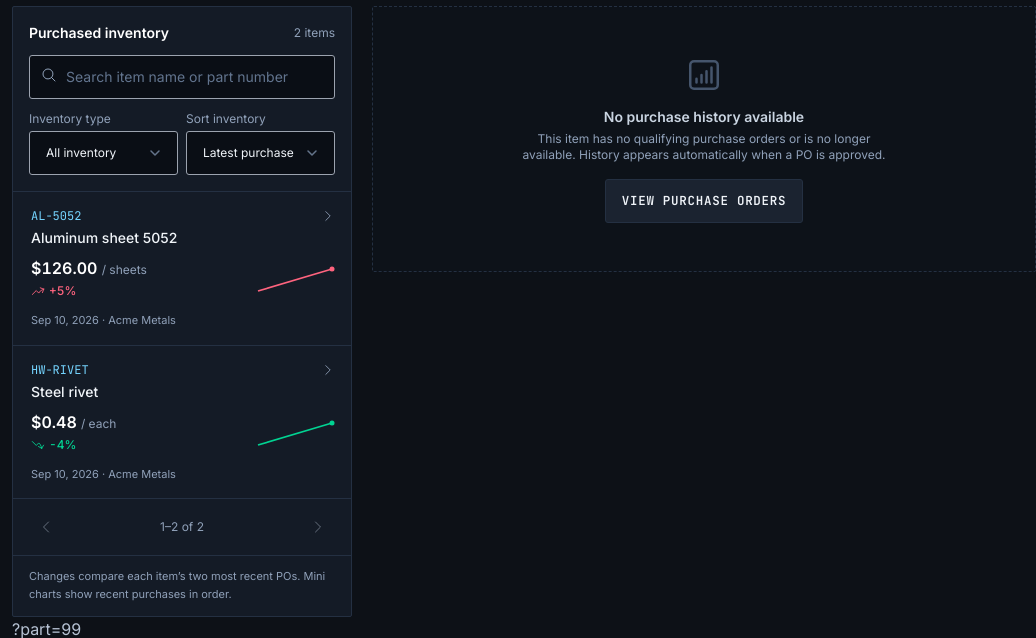
Scenario: an item without purchase history shows a normal empty state and lets the buyer select another item
This screenshot has width=1036, height=638.
Expected: the text "No purchase history available" is shown, [604,107,804,127]
Step 1. Click the button "HW-RIVET" → (60, 370), box [13,346,351,498]
(page scrolled)
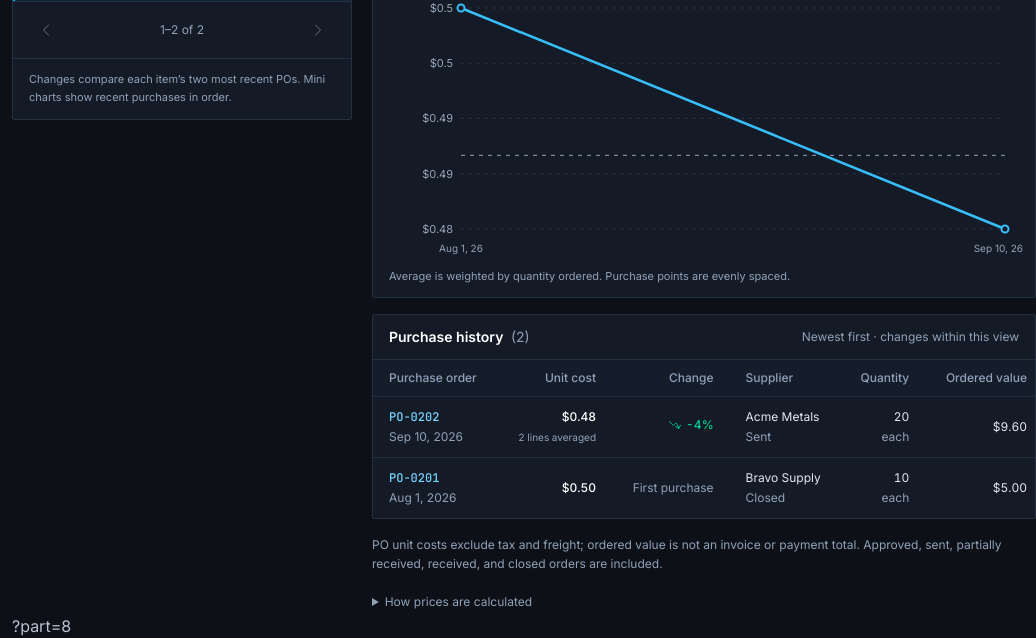
Result: the link "PO-0202" is shown at [389,408,439,424]
Result: the text "No purchase history available" is gone
